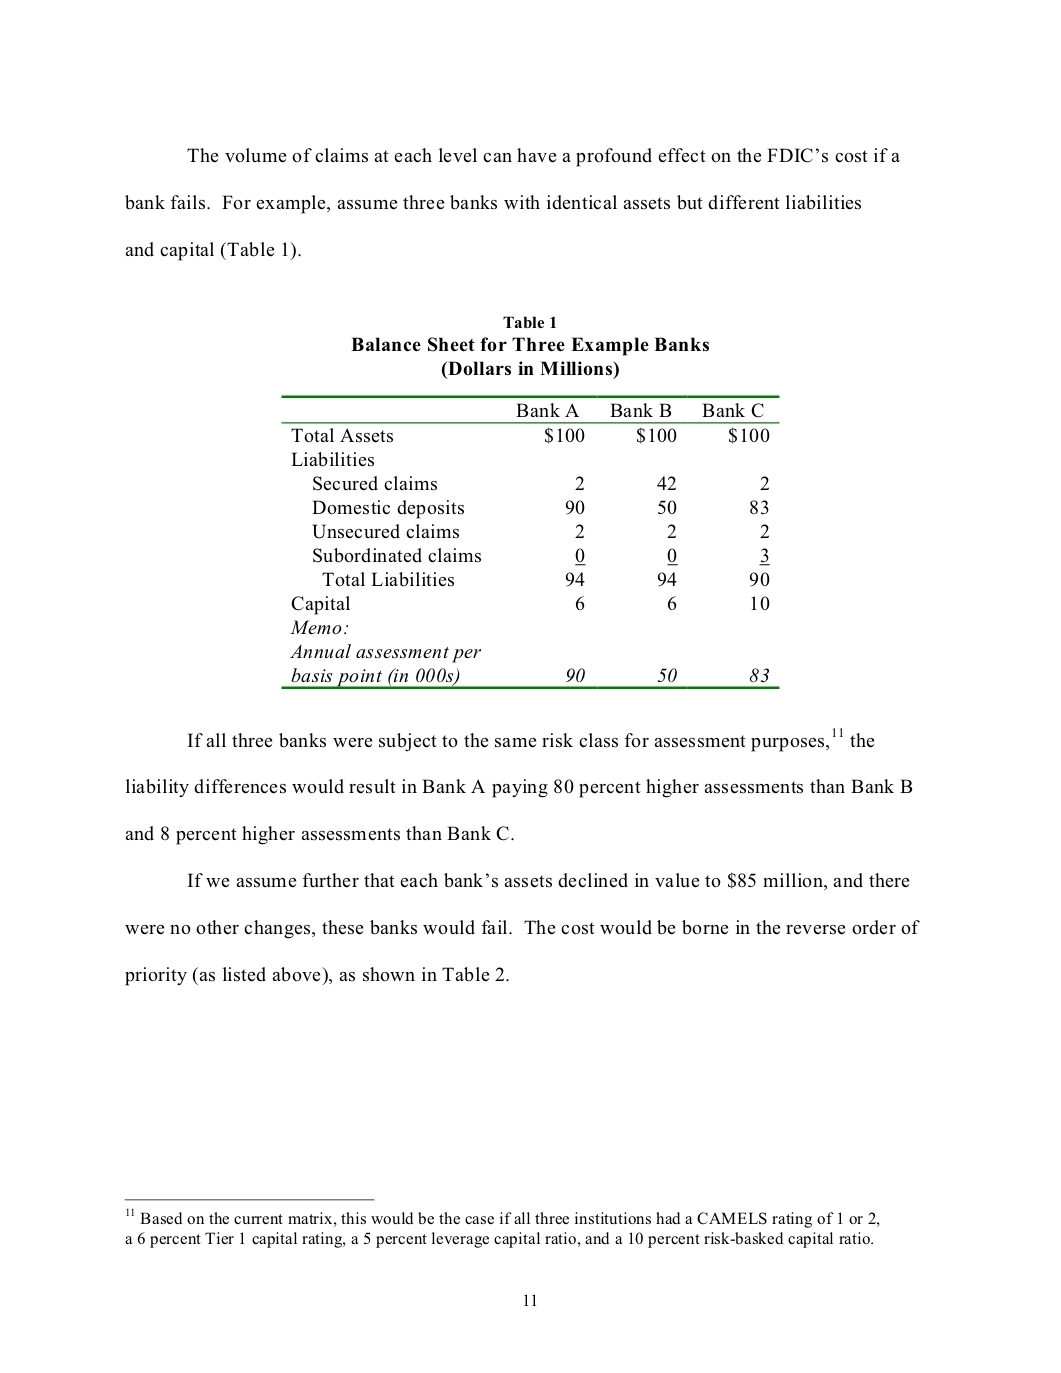Table: (281, 395, 779, 689)
